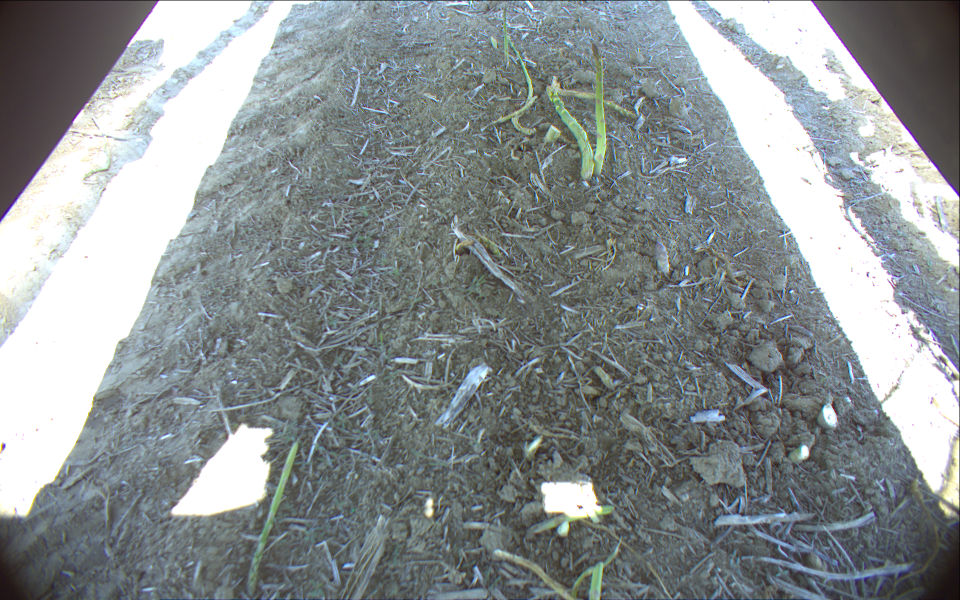aspa: (582, 40, 607, 177)
